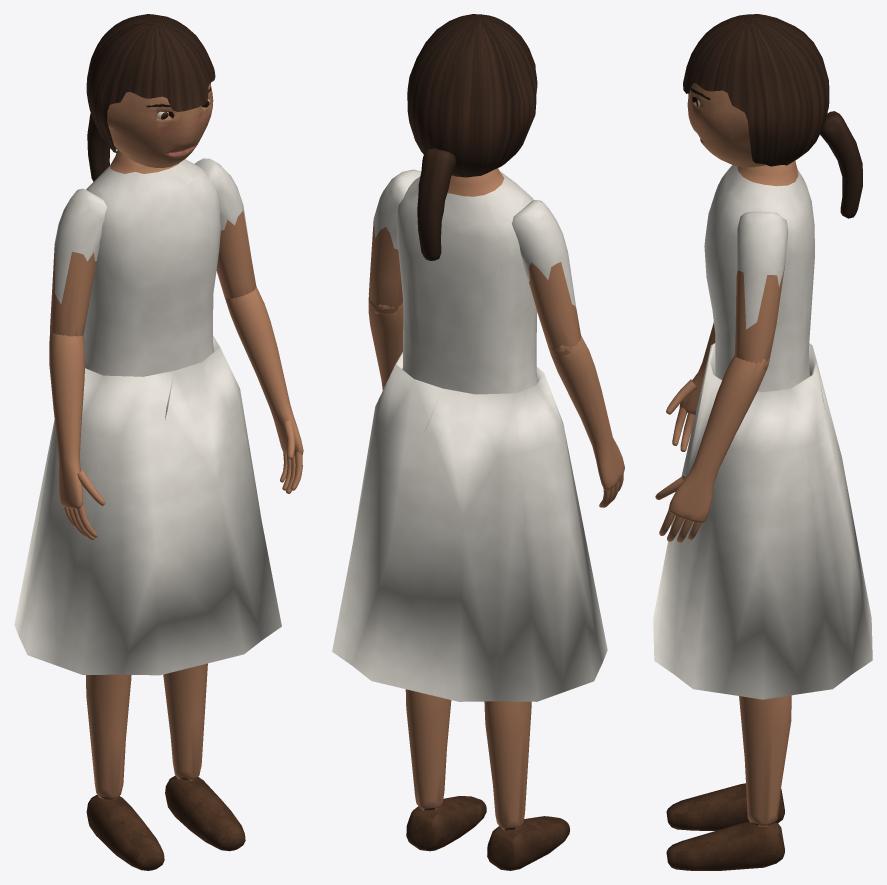
Rendered from persona_nina_c_medio.obj.
3 renders of one model, left to right at view 1: azimuth 30°, elevation 25°; view 2: azimuth 150°, elevation 25°; view 3: azimuth 270°, elevation 25°, orthographic. The views are drawn at different scales.
Parts seen in each view (by area): view 1: Falda, Torso, Pelo, PiernaDer, PiernaIzq, BrazoDer, AntebrazoDer, Cabeza, AntebrazoIzq, BrazoIzq; view 2: Falda, Torso, Pelo, PiernaDer, PiernaIzq, BrazoDer, AntebrazoDer, BrazoIzq, AntebrazoIzq; view 3: Falda, Pelo, Torso, PiernaIzq, AntebrazoIzq, BrazoIzq, Cabeza, PiernaDer, AntebrazoDer.
Boxes of the visible parts, bbox=[...] form: Falda: bbox=[14, 335, 281, 675]; Torso: bbox=[83, 149, 220, 376]; Pelo: bbox=[86, 14, 215, 181]; PiernaDer: bbox=[86, 674, 164, 870]; PiernaIzq: bbox=[163, 663, 245, 851]; BrazoDer: bbox=[50, 188, 106, 336]; AntebrazoDer: bbox=[49, 331, 105, 539]; Cabeza: bbox=[107, 83, 213, 167]; AntebrazoIzq: bbox=[225, 286, 303, 493]; BrazoIzq: bbox=[194, 158, 256, 299]; Falda: bbox=[332, 352, 607, 701]; Torso: bbox=[396, 168, 537, 394]; Pelo: bbox=[407, 14, 537, 260]; PiernaDer: bbox=[484, 701, 569, 870]; PiernaIzq: bbox=[405, 689, 486, 851]; BrazoDer: bbox=[511, 200, 581, 356]; AntebrazoDer: bbox=[550, 336, 624, 507]; BrazoIzq: bbox=[368, 169, 421, 314]; AntebrazoIzq: bbox=[368, 294, 403, 390]; Falda: bbox=[653, 343, 872, 699]; Pelo: bbox=[683, 14, 862, 218]; Torso: bbox=[704, 161, 814, 391]; PiernaIzq: bbox=[666, 695, 791, 870]; AntebrazoIzq: bbox=[655, 355, 769, 542]; BrazoIzq: bbox=[734, 211, 788, 370]; Cabeza: bbox=[687, 83, 765, 167]; PiernaDer: bbox=[666, 783, 784, 830]; AntebrazoDer: bbox=[666, 322, 715, 451].
Size of the model in its own units: 0.3569 by 1.15 by 0.2757.
Materials: 10 (10 with a texture image).
